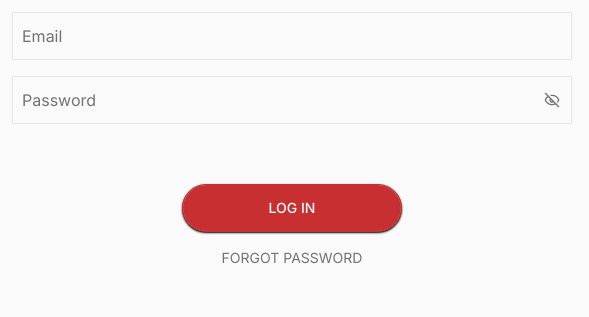
Test case: LoginForm › shows the backend error on invalid credentials
Type "test@test.com" into the field labelled "Email" at (292, 36), box [12, 12, 572, 60]
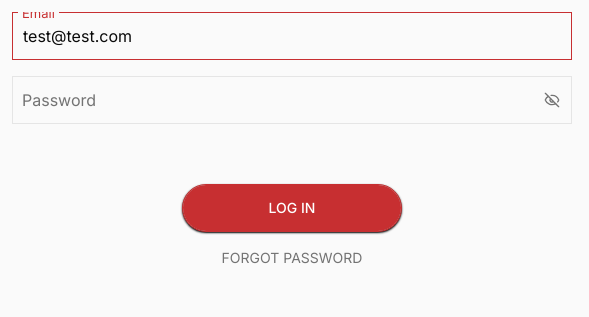
Type "wrongpass" into the password field labelled "Password" at (292, 100), box [12, 76, 572, 124]
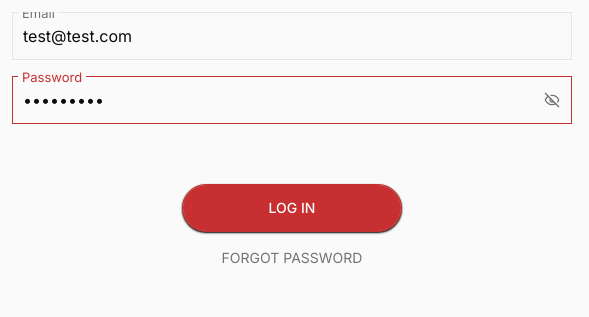
Click the button "LOG IN" at (292, 208), box [182, 184, 402, 232]
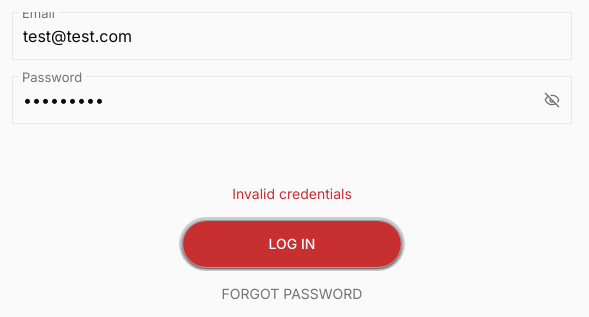
Expected: the text "Invalid credentials" is shown, [232, 184, 352, 204]
